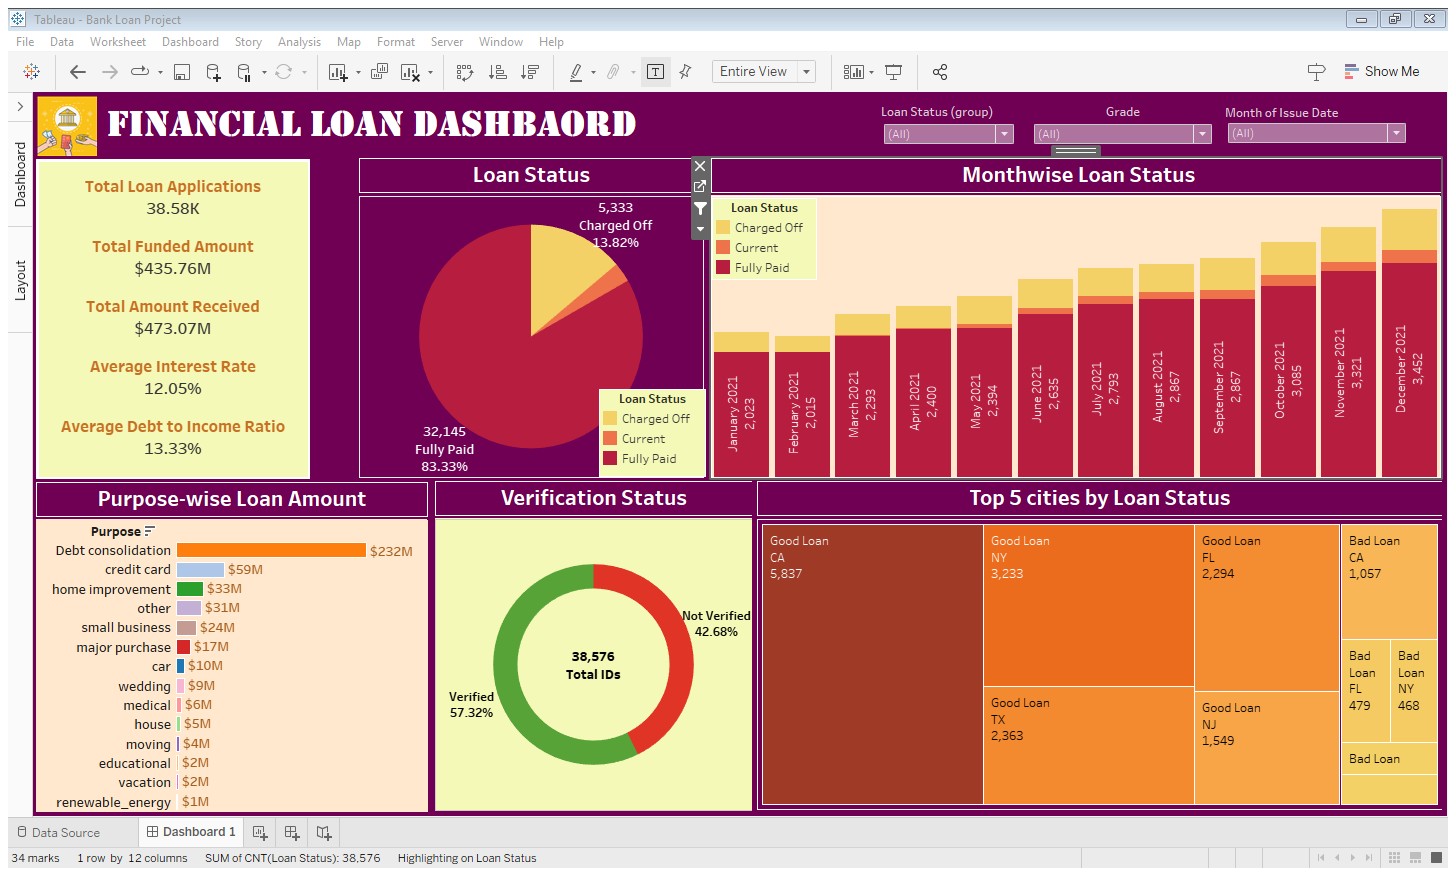

Layout of this report page (visuals, bound fields, positions):
{"tool":"tableau","page":{"name":"Dashboard 1","canvas":[1000,1000],"units":"permille","ordinal":0},"visuals":[{"type":"text","box":[50.5,4.1,459.7,80.1]},{"type":"image","param":"C:/Users/EAP/Documents/Tableau Project/Bank Image.jpg","box":[3,5.8,44.7,82.9]},{"type":"filter","title":"Total KPIs","param":"[federated.0ci7v8816c3z6h1fovqyy0dc4p7e].[Loan Status (group)]","box":[599.7,15.2,96,62.1]},{"type":"filter","title":"Total KPIs","param":"[federated.0ci7v8816c3z6h1fovqyy0dc4p7e].[none:grade:nk]","box":[705.5,15.2,130.2,62.1]},{"type":"filter","title":"Total KPIs","param":"[federated.0ci7v8816c3z6h1fovqyy0dc4p7e].[mn:issue_date:ok]","box":[843,16.6,130.2,55.2]},{"type":"worksheet","title":"Loan Staus Pie","mark":"Pie","box":[230.3,91.2,244.1,442]},{"type":"worksheet","title":"Monthwise Loan Status","mark":"Bar","rows":["loan_status"],"cols":["issue_date"],"box":[479.2,91.2,516.7,442]},{"type":"worksheet","title":"Total KPIs","mark":"Automatic","box":[2.4,92.5,224.6,442]},{"type":"legend","title":"Monthwise Loan Status","param":"[federated.0ci7v8816c3z6h1fovqyy0dc4p7e].[none:loan_status:nk]","box":[480.1,146.4,74,113.3]},{"type":"legend","title":"Loan Staus Pie","param":"[federated.0ci7v8816c3z6h1fovqyy0dc4p7e].[none:loan_status:nk]","box":[400.3,410.2,75.7,121.5]},{"type":"worksheet","title":"Verification Status","mark":"Pie","rows":["Calculation_644014813643468810","Calculation_644014813643468810"],"box":[284,537.3,224.6,455.8]},{"type":"worksheet","title":"Top  5 cities by loan status","mark":"Automatic","box":[511.8,537.3,484.9,455.8]},{"type":"worksheet","title":"Purpose Vs Loan Amt","mark":"Automatic","rows":["purpose"],"cols":["loan_amount"],"box":[2.4,538.7,277.5,455.8]}]}

Visuals, with their boxes on the dashboard's canvas, which has no fixed pixel size, in thousandths of its width and height (x1, y1, x2, y2). These are canvas units, not pixel positions in the 1456x876 screenshot, which may show the page scaled, cropped or inside an application window:
text: [50, 4, 510, 84]
image: [3, 6, 48, 89]
"Total KPIs" filter: [600, 15, 696, 77]
"Total KPIs" filter: [706, 15, 836, 77]
"Total KPIs" filter: [843, 17, 973, 72]
"Loan Staus Pie" worksheet (Pie marks): [230, 91, 474, 533]
"Monthwise Loan Status" worksheet (Bar marks): [479, 91, 996, 533]
"Total KPIs" worksheet: [2, 92, 227, 534]
"Monthwise Loan Status" legend: [480, 146, 554, 260]
"Loan Staus Pie" legend: [400, 410, 476, 532]
"Verification Status" worksheet (Pie marks): [284, 537, 509, 993]
"Top  5 cities by loan status" worksheet: [512, 537, 997, 993]
"Purpose Vs Loan Amt" worksheet: [2, 539, 280, 994]
